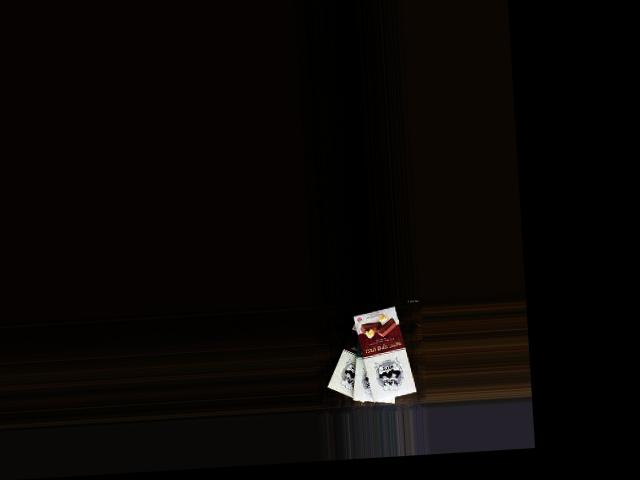chocolate: (321, 307, 387, 407)
